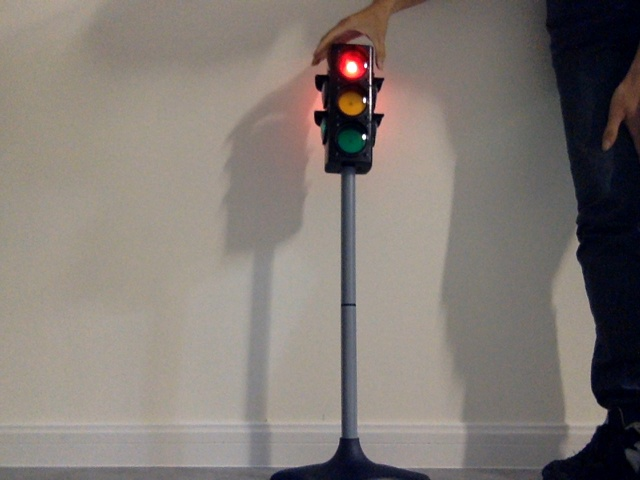red: (333, 51, 370, 159)
